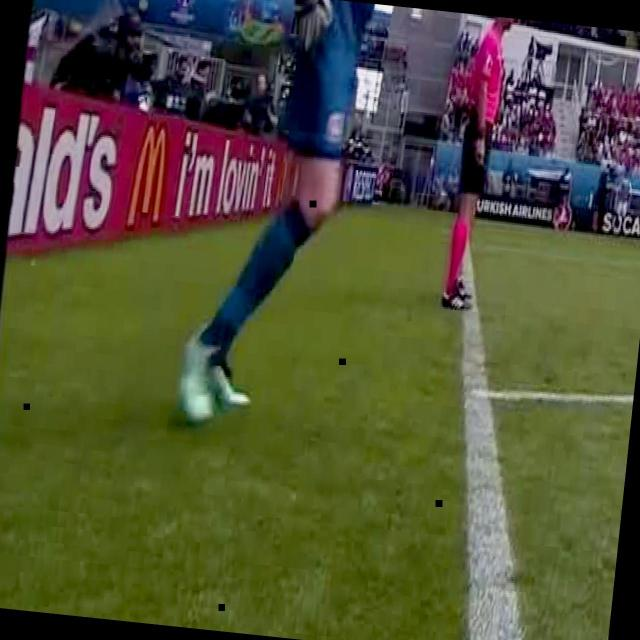player-white: (174, 0, 437, 444), (438, 14, 516, 319)
